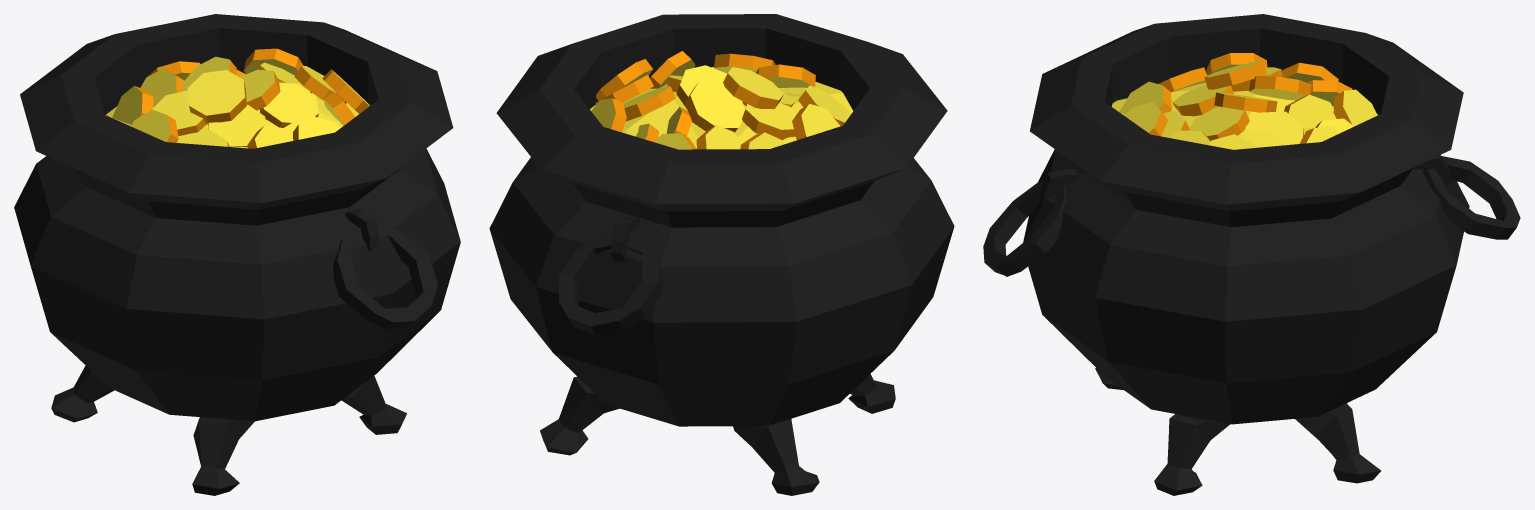
The model's file is potofgold.fbx.
3 views of the same model, side by side, from view 1: azimuth 30°, elevation 25°; view 2: azimuth 150°, elevation 25°; view 3: azimuth 270°, elevation 25° (orthographic). The views are drawn at different scales.
Visible parts, largest first — view 1: group_619131662; view 2: group_619131662; view 3: group_619131662.
Boxes of the visible parts, x1,y1,x2,y2 form: group_619131662: [14, 14, 460, 495]; group_619131662: [489, 14, 954, 495]; group_619131662: [983, 14, 1520, 495].
Bounding box in the file's own units: 62.9 × 55.27 × 74.01.
